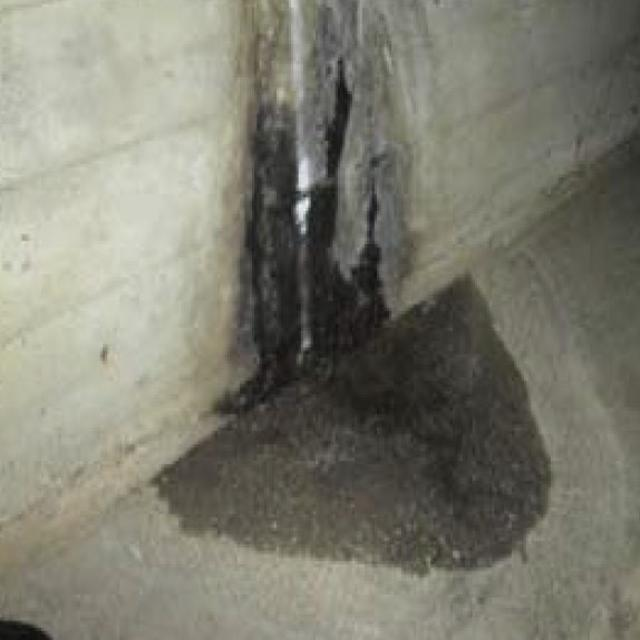leakage: (190, 54, 567, 582)
